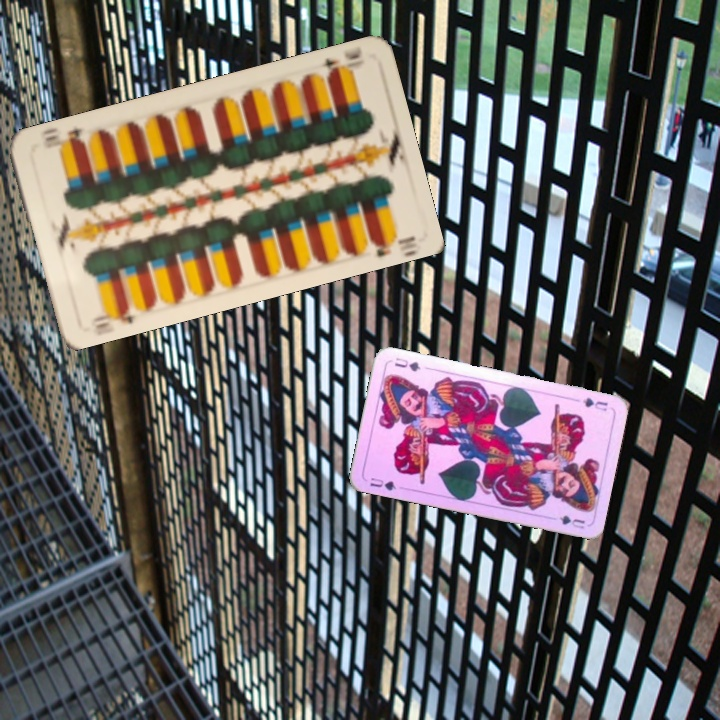E10: (309, 45, 365, 82), (86, 300, 137, 331)
GU: (366, 473, 398, 493), (579, 393, 610, 413)
